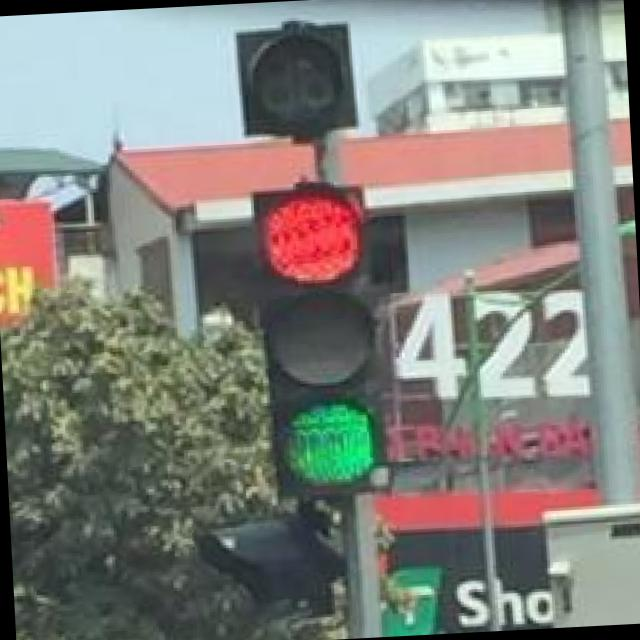green-lights: (270, 392, 392, 501)
red-lights: (253, 185, 375, 288)
